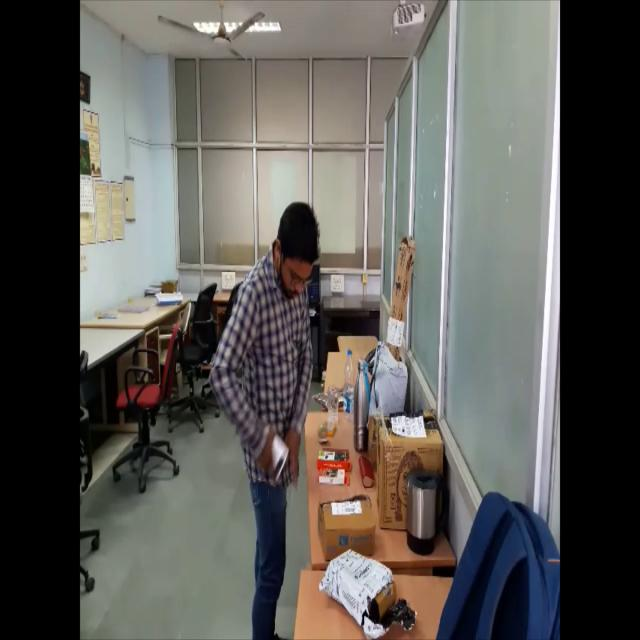shoplifting: (212, 176, 318, 640)
